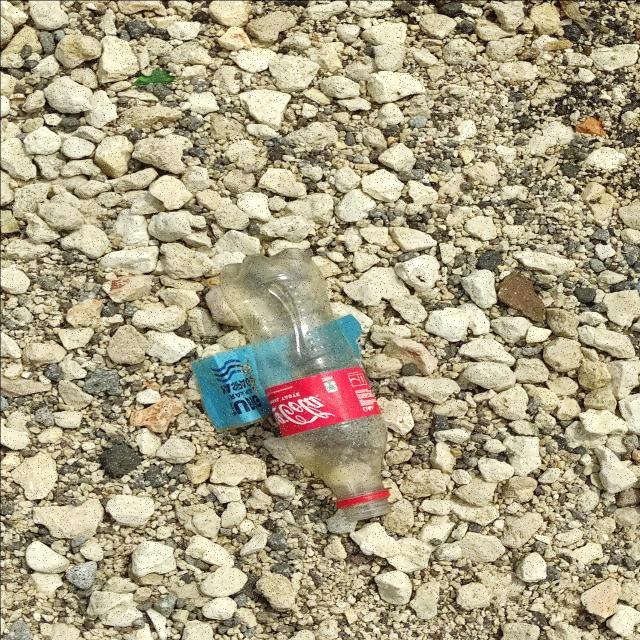plastic_waste: (218, 246, 397, 525)
